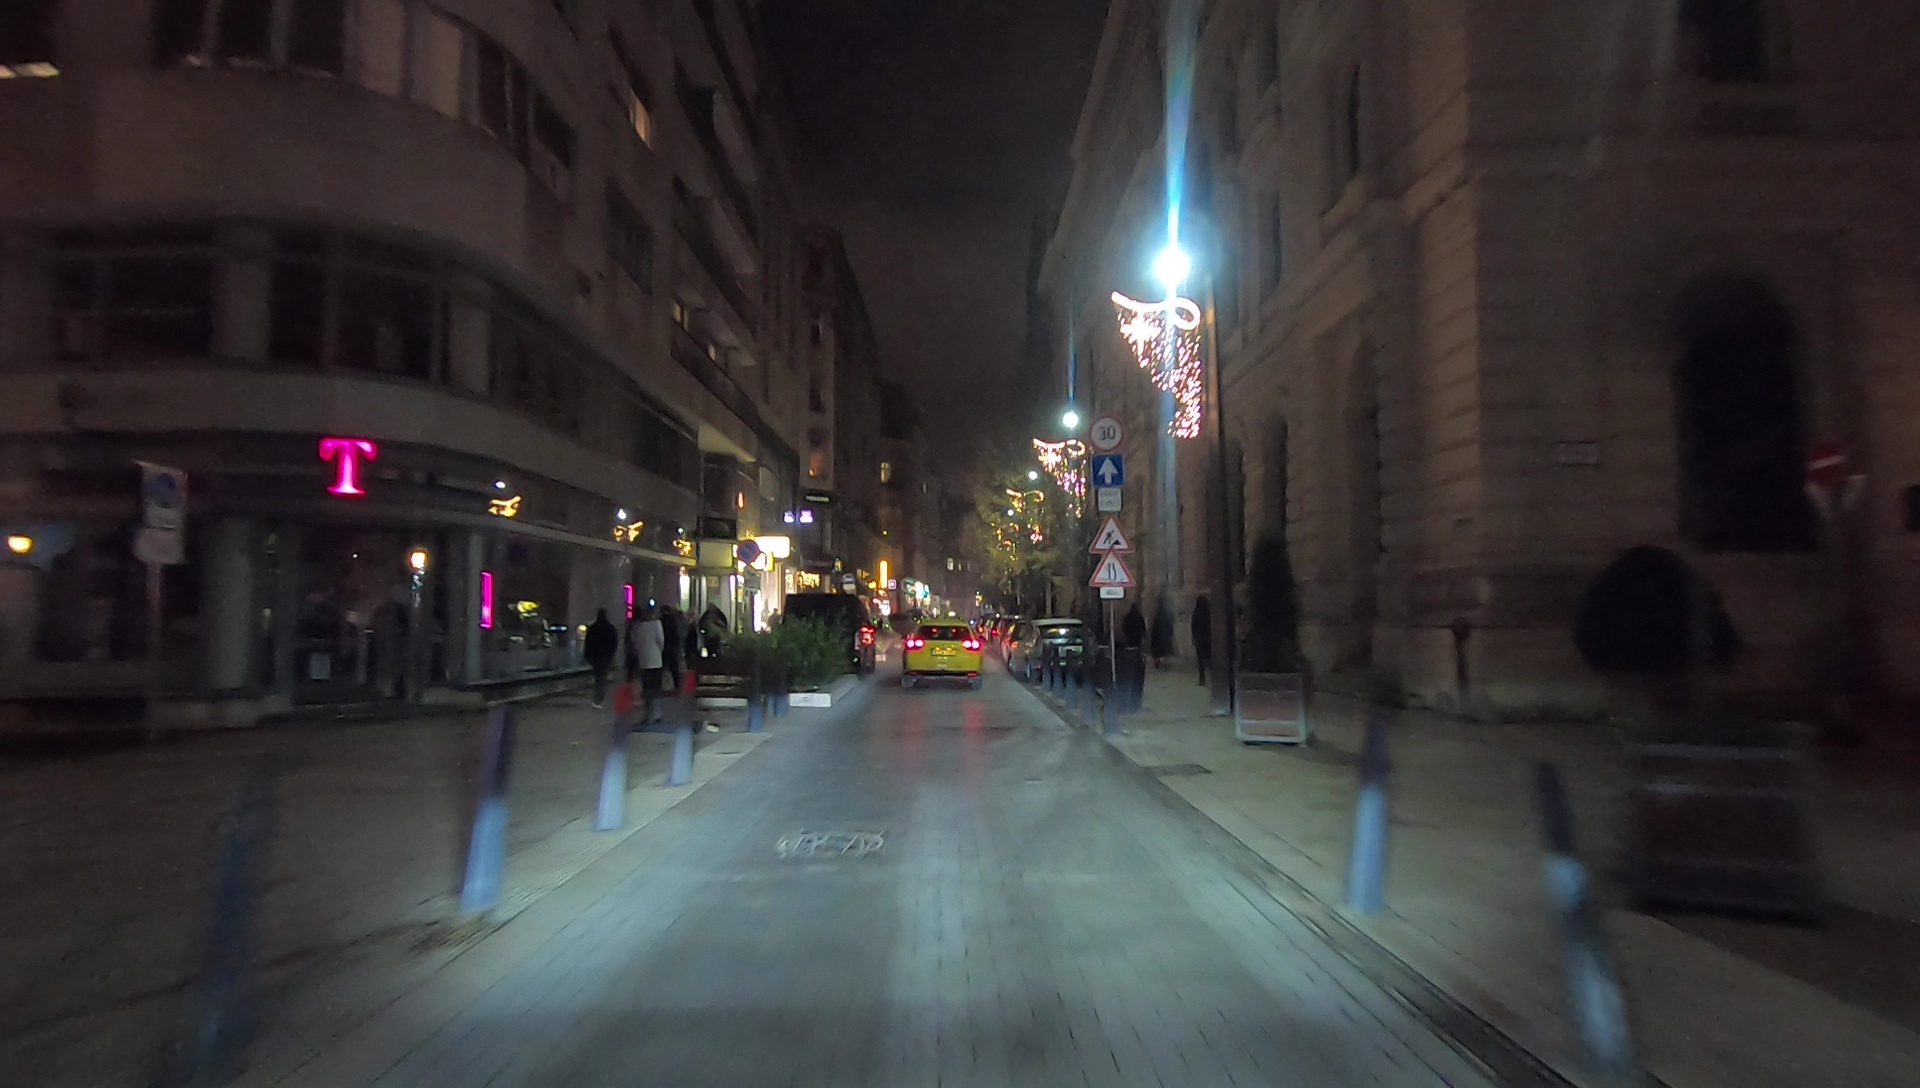person: (631, 609, 666, 730), (585, 609, 617, 705), (656, 603, 686, 697), (1189, 595, 1219, 689), (698, 599, 725, 670), (1119, 601, 1144, 674), (1150, 598, 1173, 669)
